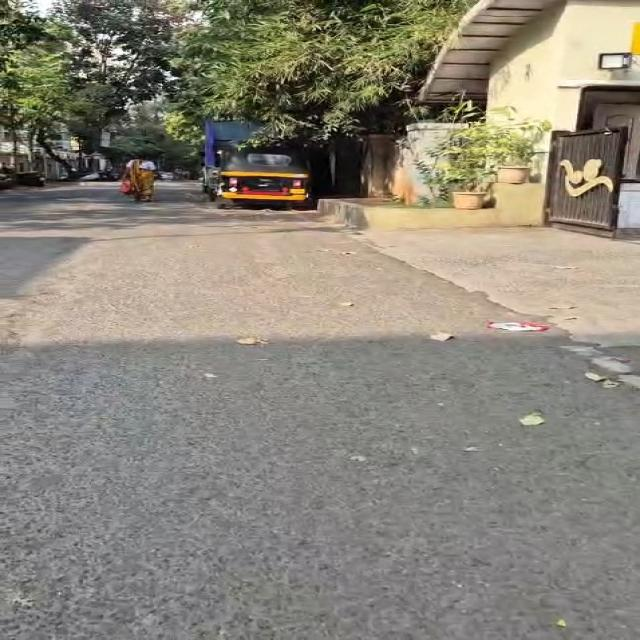obstacle: (37, 131, 74, 174)
person: (125, 156, 156, 201)
vehical: (209, 148, 311, 207)
